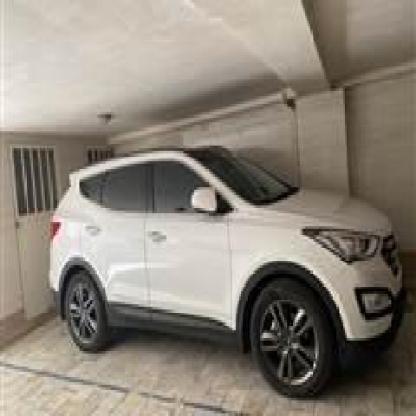Car: (42, 143, 407, 398)
